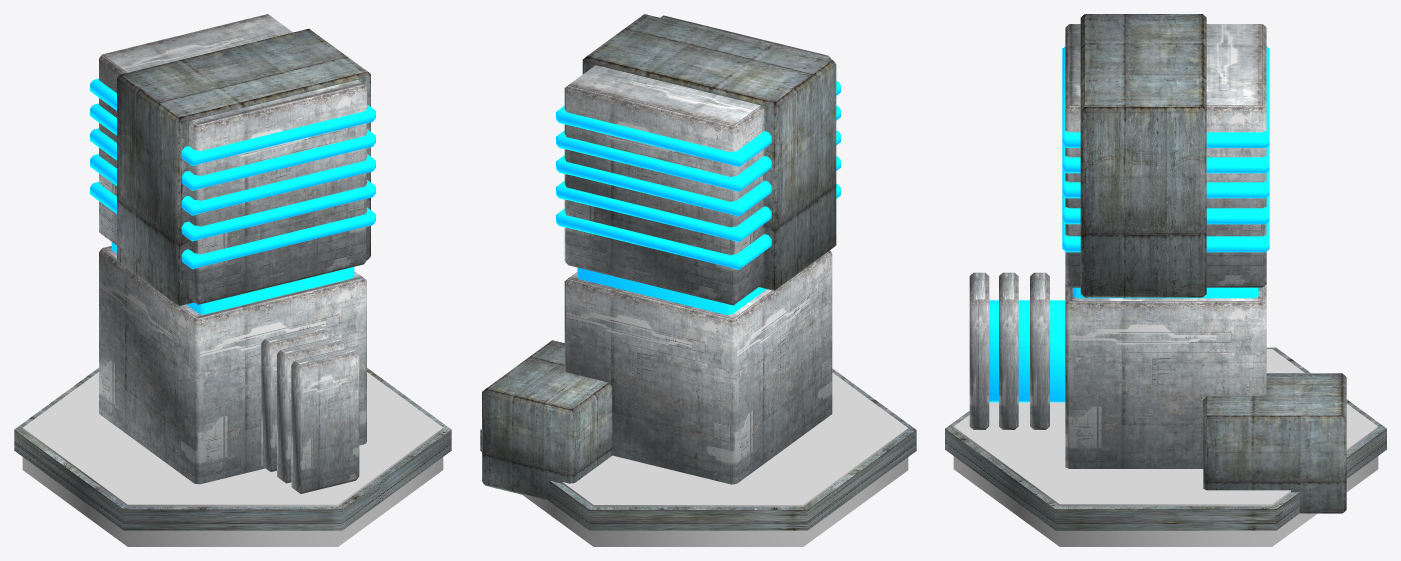
The model's file is residential01.fbx.
3 renders of one model, left to right at view 1: azimuth 30°, elevation 25°; view 2: azimuth 150°, elevation 25°; view 3: azimuth 270°, elevation 25°, orthographic.
Visible parts, largest first — view 1: residential01; view 2: residential01; view 3: residential01.
Part boxes in pixels (x1,y1,x2,y2): residential01: (14, 14, 451, 546); residential01: (480, 14, 916, 546); residential01: (945, 14, 1386, 546).
Size of the model in its own units: 380 by 449 by 439.
Materials: 5 (3 with a texture image).
